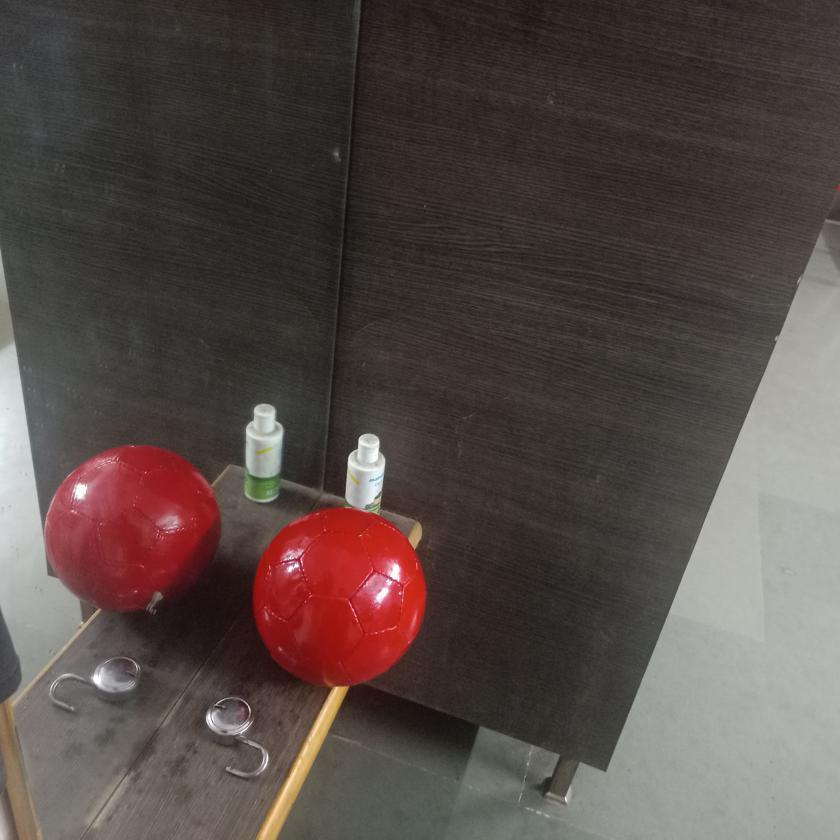Red_Ball: (254, 509, 434, 690), (43, 445, 224, 615)
